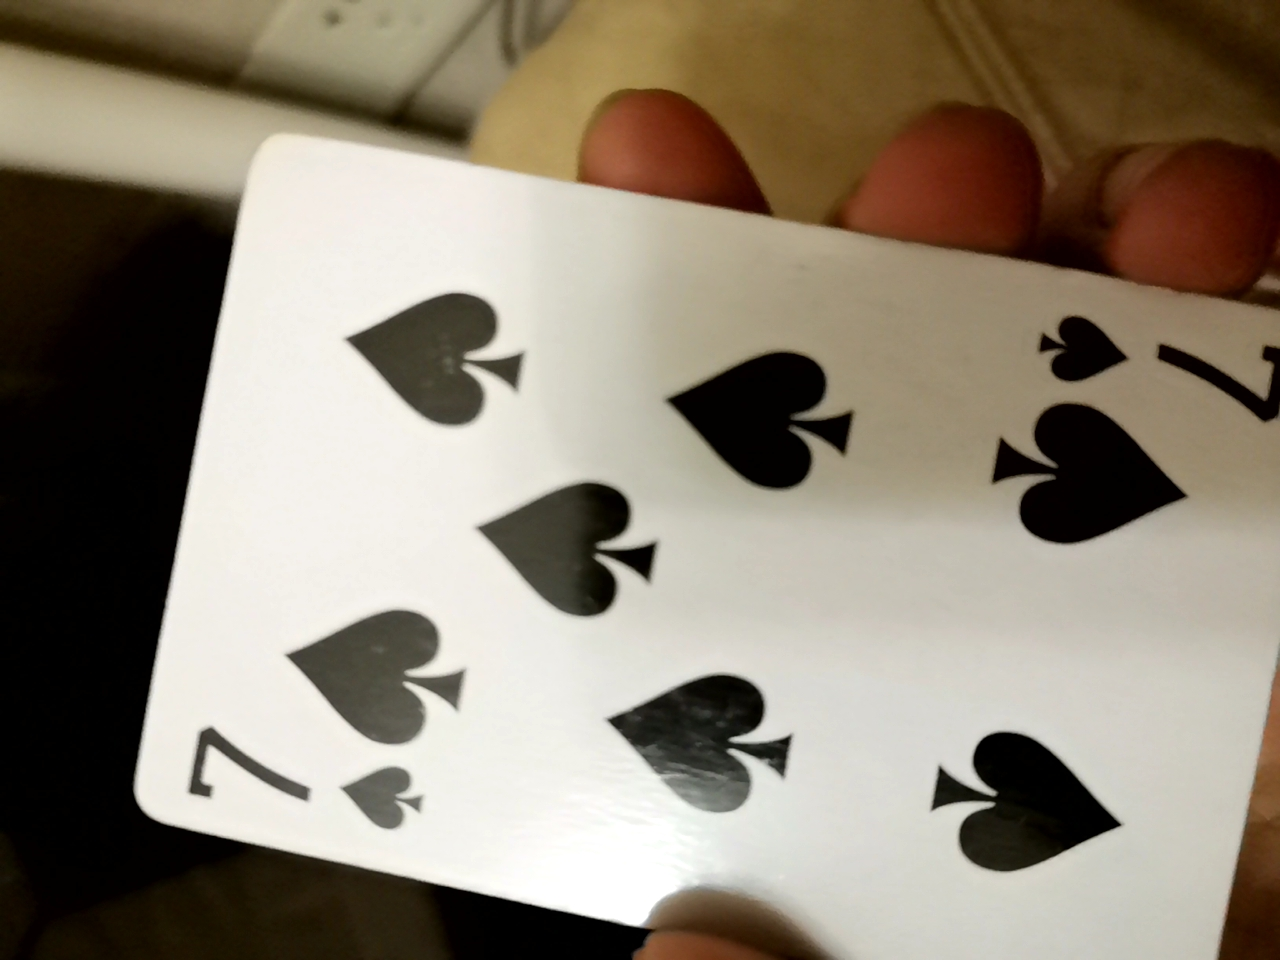ht 7: (81, 189, 1269, 954)
